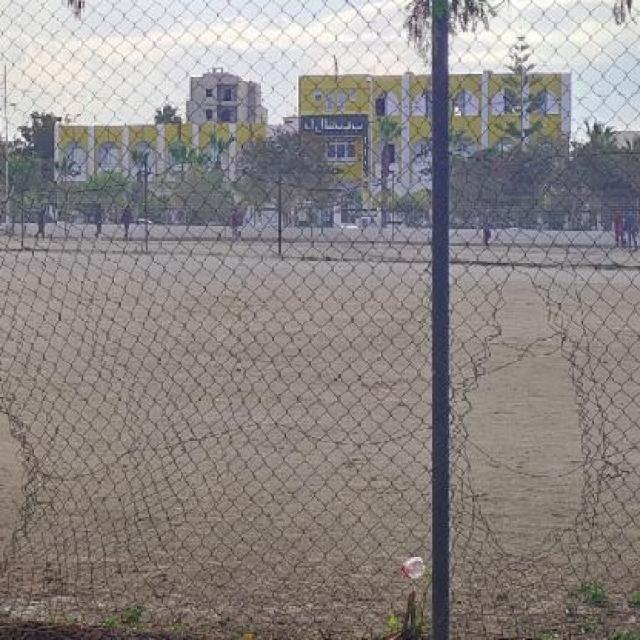fence line: (457, 265, 605, 558), (2, 412, 33, 565)
